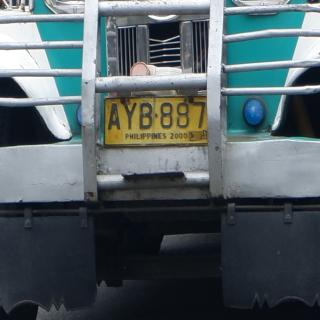license: (105, 98, 209, 146)
